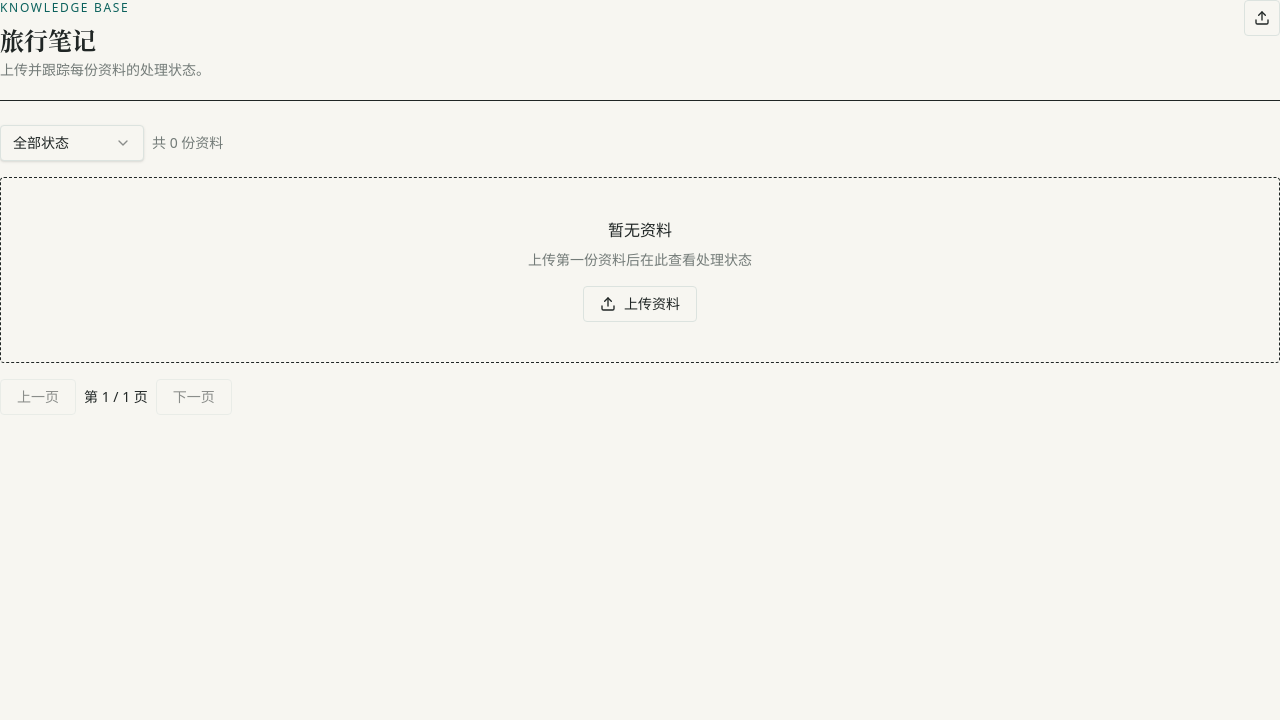
Test: 阶段 13 体验一致性（T154） › 空资料列表提供与页头等价的上传入口
Expected: the text "暂无资料" is shown, [608,218,672,242]
What coordinates should you click on to do the following:
click the button "上传资料"
I would click on:
 (640, 304)
Its box is [583,286,697,322].
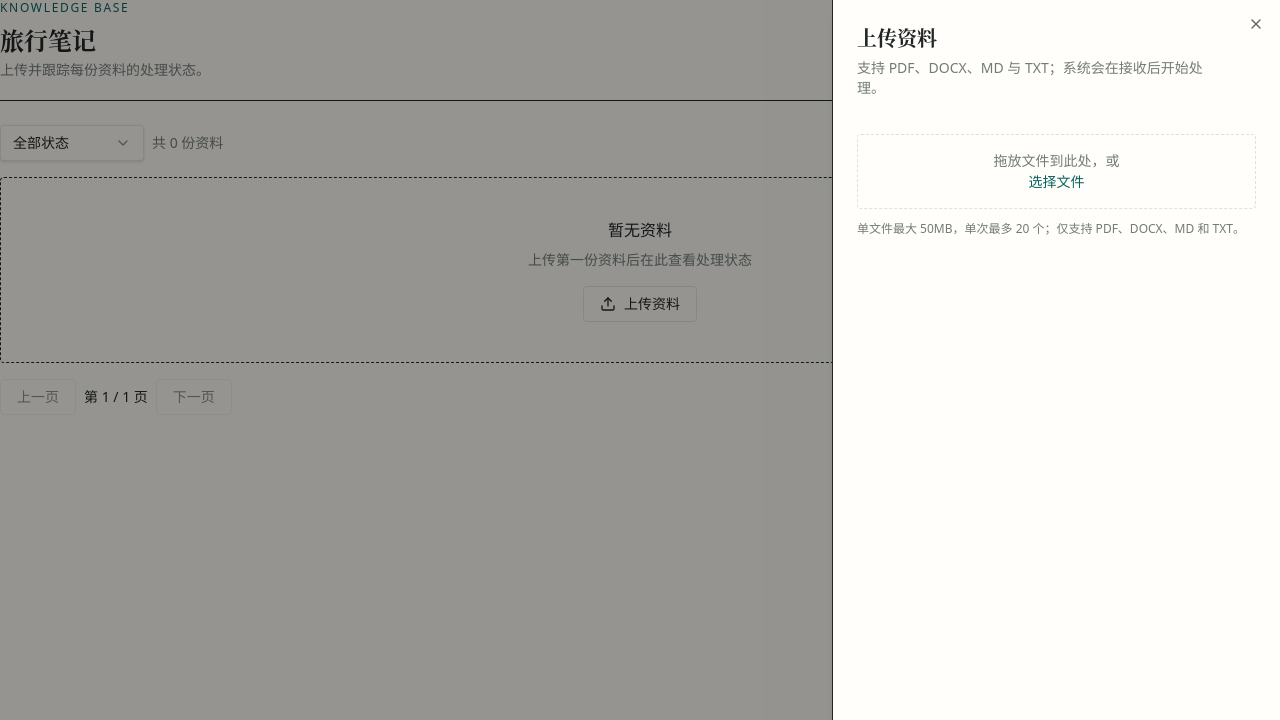
Result: the dialog "上传资料" is shown at [832,0,1279,719]
